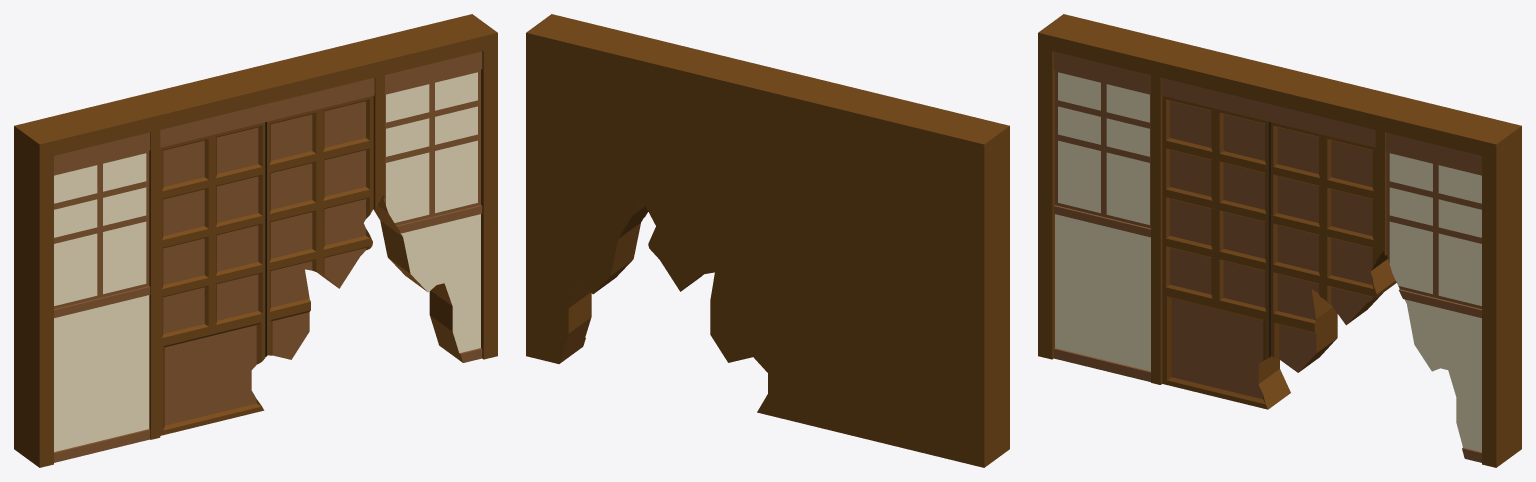
Rendered from Asian_Prop_Building_Modular_Wall_Rural_Damaged_03.FBX.
3 renders of one model, left to right at view 1: azimuth 30°, elevation 25°; view 2: azimuth 150°, elevation 25°; view 3: azimuth 330°, elevation 25°, orthographic.
Parts seen in each view (by area): view 1: Asian_Prop_Building_Modular_Wall_Rural_Damaged_03; view 2: Asian_Prop_Building_Modular_Wall_Rural_Damaged_03; view 3: Asian_Prop_Building_Modular_Wall_Rural_Damaged_03.
Part boxes in pixels (x1,y1,x2,y2): Asian_Prop_Building_Modular_Wall_Rural_Damaged_03: (14,14,497,467); Asian_Prop_Building_Modular_Wall_Rural_Damaged_03: (526,14,1009,467); Asian_Prop_Building_Modular_Wall_Rural_Damaged_03: (1038,14,1521,467).
Bounding box in the file's own units: 5167 × 3485 × 500.
